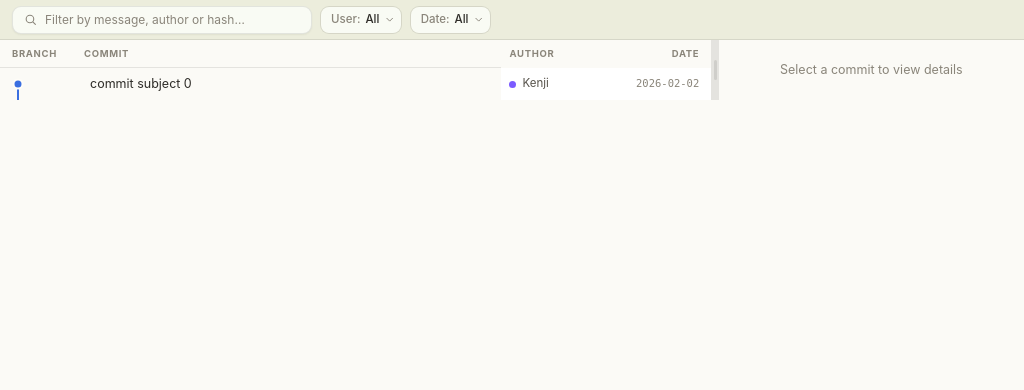
Scenario: LogTab commit list › selecting a row loads and shows the commit details
Click the text "commit subject 0" at (141,84), box top-left (90, 75), bottom-right (192, 93)
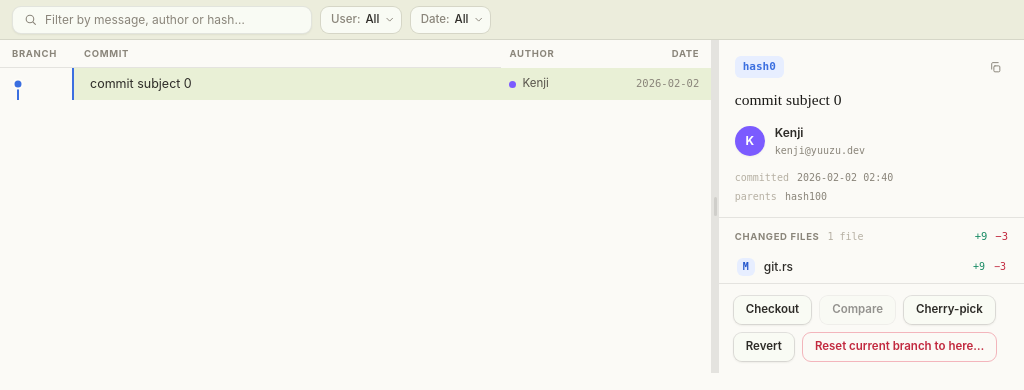
Expected: the text "git.rs" is shown, top-left (764, 259), bottom-right (793, 274)
Expected: the text "kenji@yuuzu.dev" is shown, top-left (775, 143), bottom-right (865, 158)
